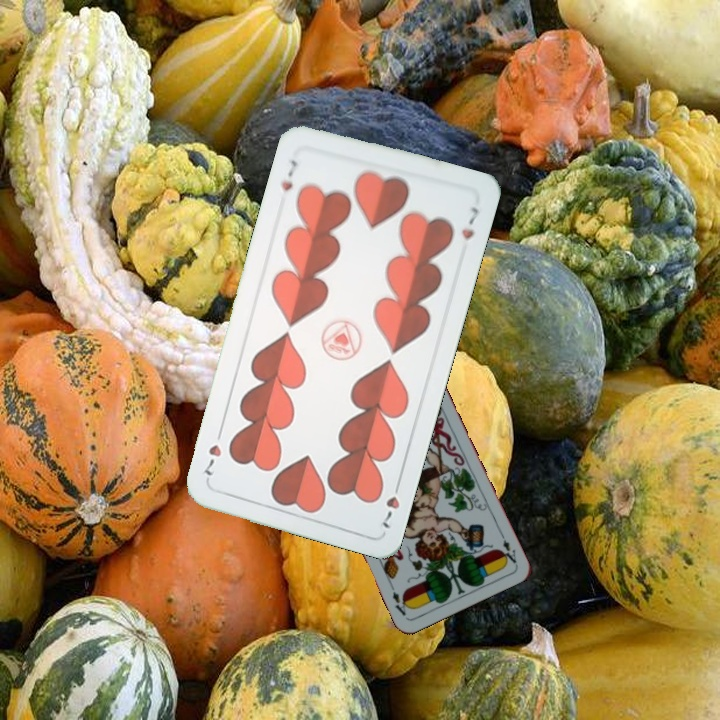EA: (496, 529, 519, 567)
H7: (377, 475, 403, 531), (277, 155, 300, 194)
